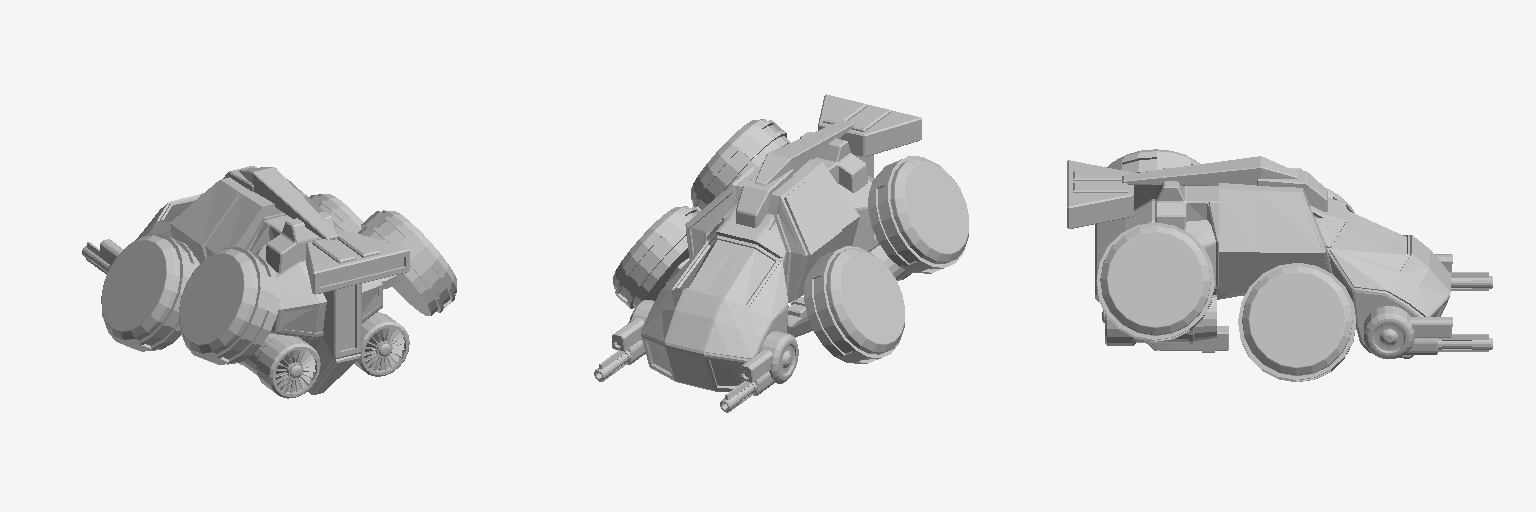
Rendered from fly.obj.
3 renders of one model, left to right at view 1: azimuth 30°, elevation 25°; view 2: azimuth 150°, elevation 25°; view 3: azimuth 270°, elevation 25°, orthographic.
Parts seen in each view (by area): view 1: ??; view 2: ??; view 3: ??.
Part boxes in pixels (bbox=[...]): ??: bbox=[82, 166, 456, 398]; ??: bbox=[594, 94, 968, 412]; ??: bbox=[1067, 149, 1492, 381].
Bounding box in the file's own units: 402 × 266 × 546.